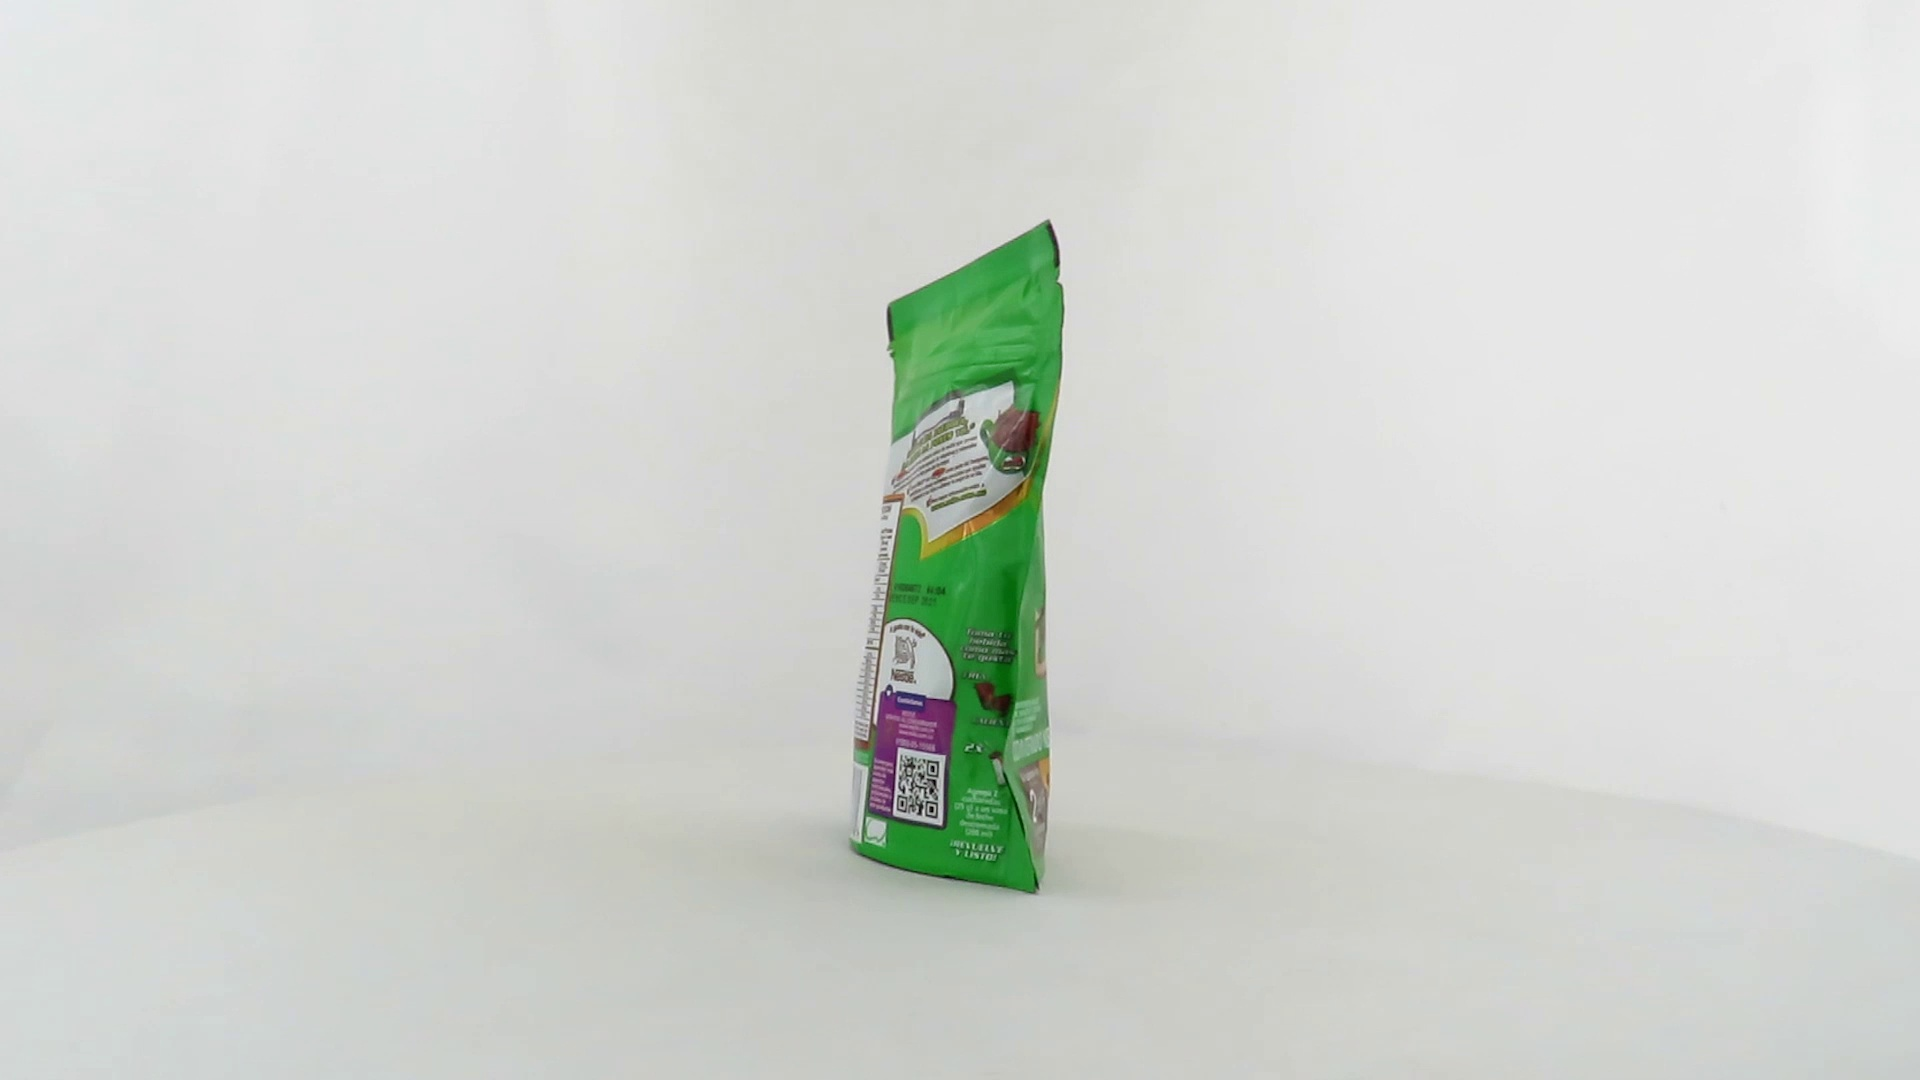COL0170203DYP10000: (843, 214, 1071, 901)
